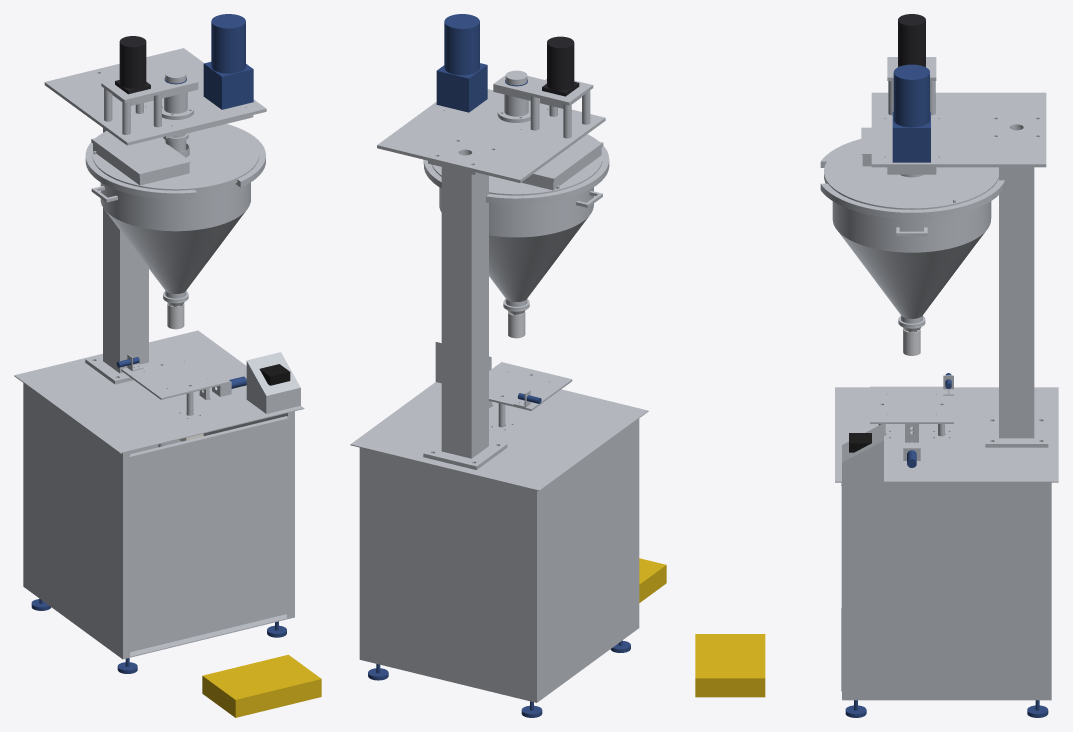
Rendered from P1-401-ASM.glb.
3 views of the same model, side by side, from view 1: azimuth 30°, elevation 25°; view 2: azimuth 150°, elevation 25°; view 3: azimuth 270°, elevation 25° (orthographic). The views are drawn at different scales.
Parts seen in each view (by area): view 1: P1-401-104, P1-401-101, P1-401-102, P1-401-301, P1-401-201, P1-401-405, P1-417, P1-401-401, P1-401-402, P1-414, P1-401-701, P1-401-106 (+10 smaller); view 2: P1-401-101, P1-401-102, P1-401-201, P1-401-301, P1-414, P1-401-402, P1-401-401, P1-401-701, P1-401-405, P1-401-204, P1-401-307, P1-413 (+7 smaller); view 3: P1-401-101, P1-401-102, P1-401-301, P1-401-201, P1-401-405, P1-401-401, P1-401-402, P1-417, P1-414, P1-401-701, P1-401-204, P1-401-106 (+3 smaller).
Boxes of the visible parts, box(x1,y1,x2,y2) form: P1-401-104: box(129, 416, 289, 652); P1-401-101: box(23, 383, 294, 659); P1-401-102: box(14, 330, 304, 453); P1-401-301: box(44, 48, 266, 145); P1-401-201: box(103, 128, 148, 373); P1-401-405: box(92, 125, 259, 192); P1-417: box(202, 654, 321, 717); P1-401-401: box(100, 182, 250, 231); P1-401-402: box(106, 211, 245, 293); P1-414: box(203, 14, 253, 109); P1-401-701: box(121, 352, 230, 399); P1-401-106: box(246, 352, 300, 413); P1-401-101: box(359, 418, 639, 702); P1-401-102: box(350, 382, 648, 491); P1-401-201: box(441, 167, 488, 458); P1-401-301: box(377, 89, 605, 182); P1-414: box(436, 14, 487, 112); P1-401-402: box(489, 217, 588, 301); P1-401-401: box(439, 187, 593, 237); P1-401-701: box(489, 362, 572, 410); P1-401-405: box(432, 136, 602, 195); P1-401-204: box(423, 134, 609, 204); P1-401-307: box(528, 79, 593, 138); P1-413: box(542, 36, 579, 96); P1-401-101: box(842, 482, 1051, 700); P1-401-102: box(835, 387, 1058, 482); P1-401-301: box(871, 92, 1046, 167); P1-401-201: box(999, 167, 1034, 438); P1-401-405: box(824, 141, 998, 209); P1-401-401: box(832, 201, 991, 252); P1-401-402: box(838, 231, 984, 318); P1-417: box(695, 634, 765, 697); P1-414: box(892, 64, 930, 162); P1-401-701: box(870, 386, 953, 423); P1-401-204: box(820, 139, 1005, 218); P1-401-106: box(842, 423, 883, 481).
Size of the model in its own units: 640 by 2000 by 1040.
